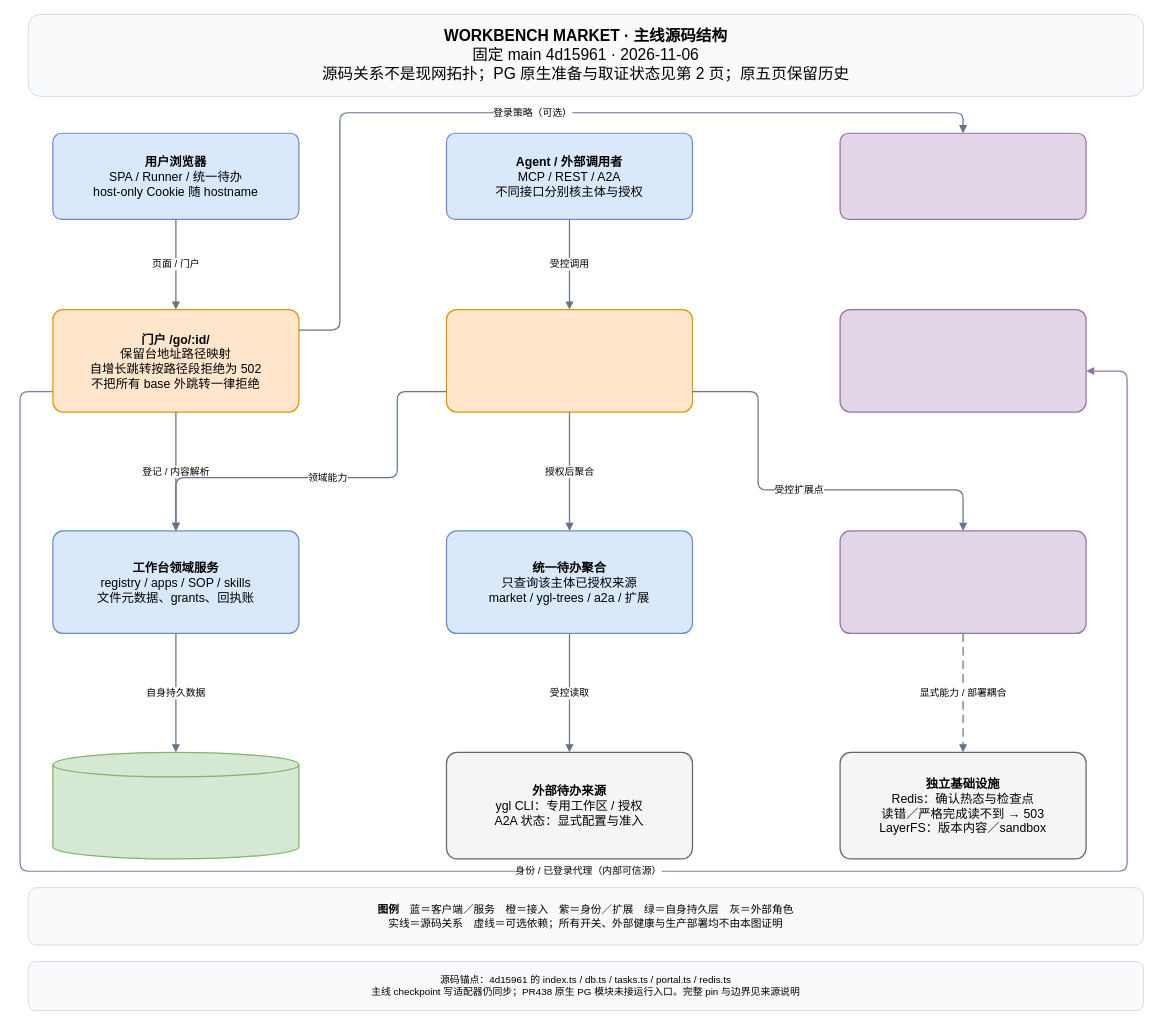
Image size: 1159x1025. Some labels were removed from this diagram. The shapes that lost their labels are listed below. From the top down, each one's centre as x and y in pixels, then its label:
At point 962,176: "浏览器登录策略 · 可选 同源登录中继优先 否则使用可信 WM_ODOO_BROWSER_URL".
At point 569,360: "宿主 API 与鉴权 /api/tasks 先核来源读权限 MCP / 管理写 / run 读分别授权".
At point 962,360: "内部可信 Odoo 源 WM_ODOO_URL / 旧名回退 现查身份；已登录代理仍走内源".
At point 962,582: "部署私有扩展 WM_EXTENSIONS_DIR 显式加载 宿主 ctx API / 路由 / 待办源".
At point 175,805: "工作台自身持久层 SQLite / workbench-market.db SSO 原子 take · SOP checkpoint".
